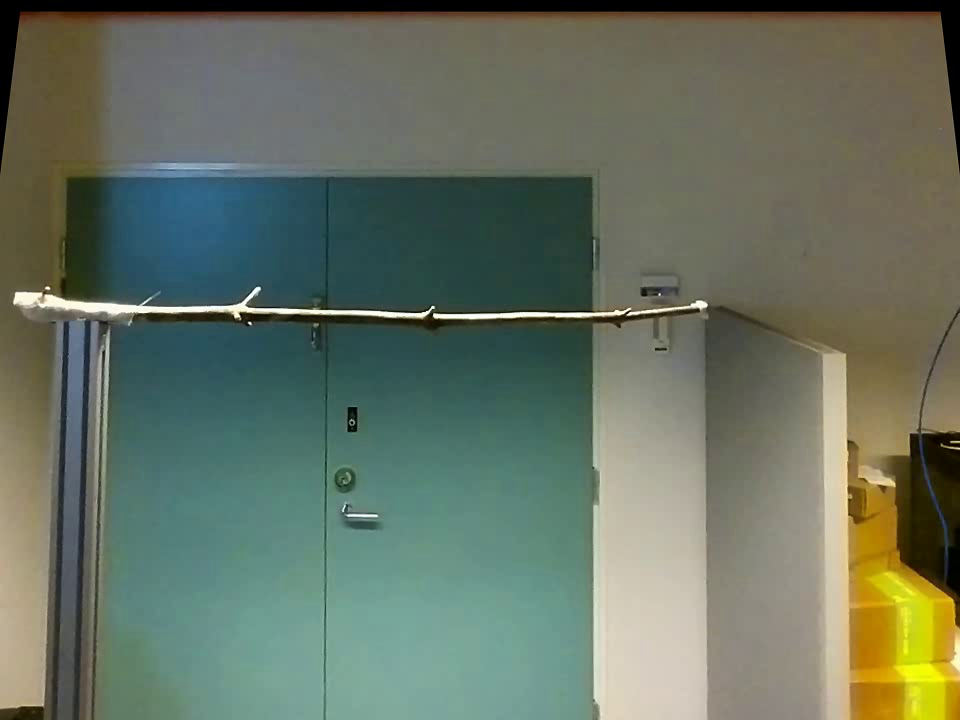aluminum_frame: (39, 325, 103, 719)
branch: (158, 280, 690, 339)
